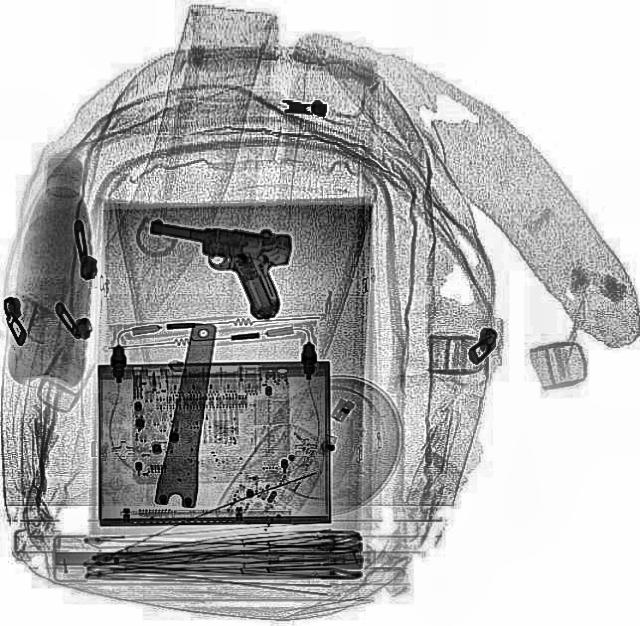Gun: (138, 211, 296, 321)
